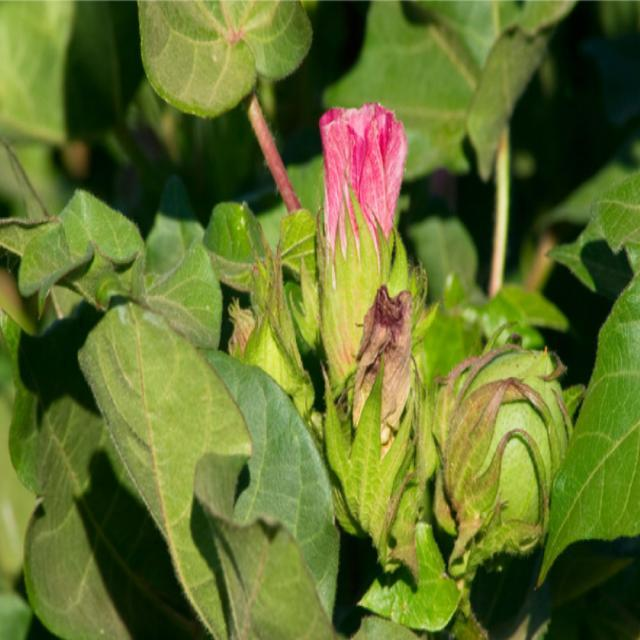Cotton Blossom: (303, 106, 426, 442)
Early Boll: (439, 337, 569, 546)
